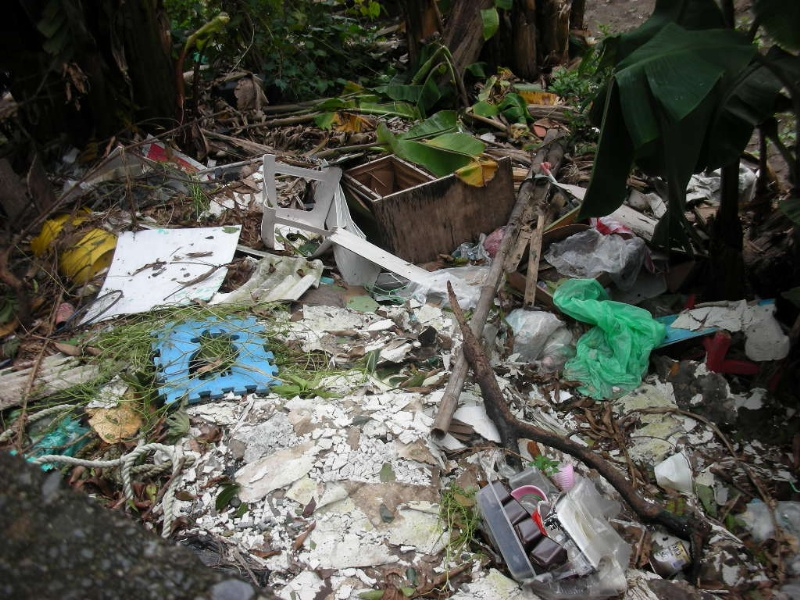box: (348, 153, 436, 263), (489, 478, 569, 572), (473, 475, 537, 583)
plastic_bag: (551, 277, 668, 404), (539, 220, 647, 294)
